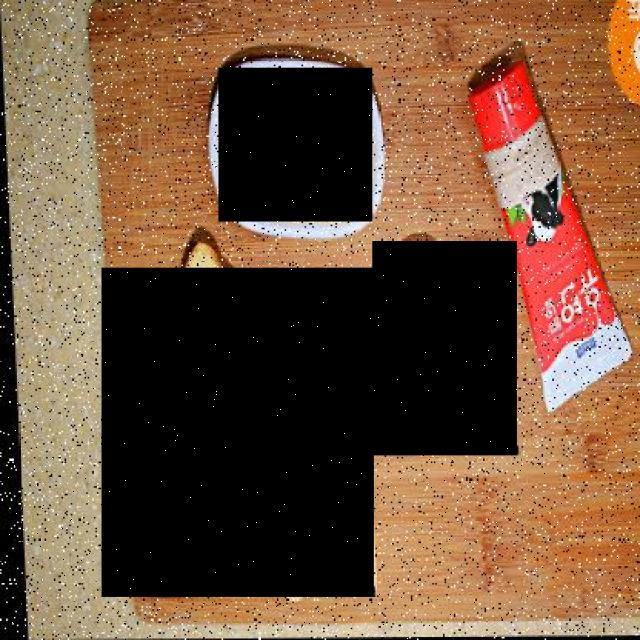Bread: (101, 268, 374, 598)
Butter: (218, 68, 372, 221)
Egg: (372, 241, 516, 456)
